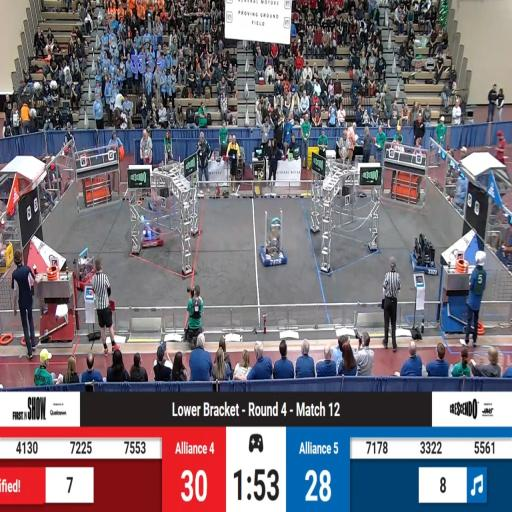robot: (74, 252, 103, 298), (261, 218, 287, 267), (411, 235, 439, 273), (141, 219, 164, 248)
